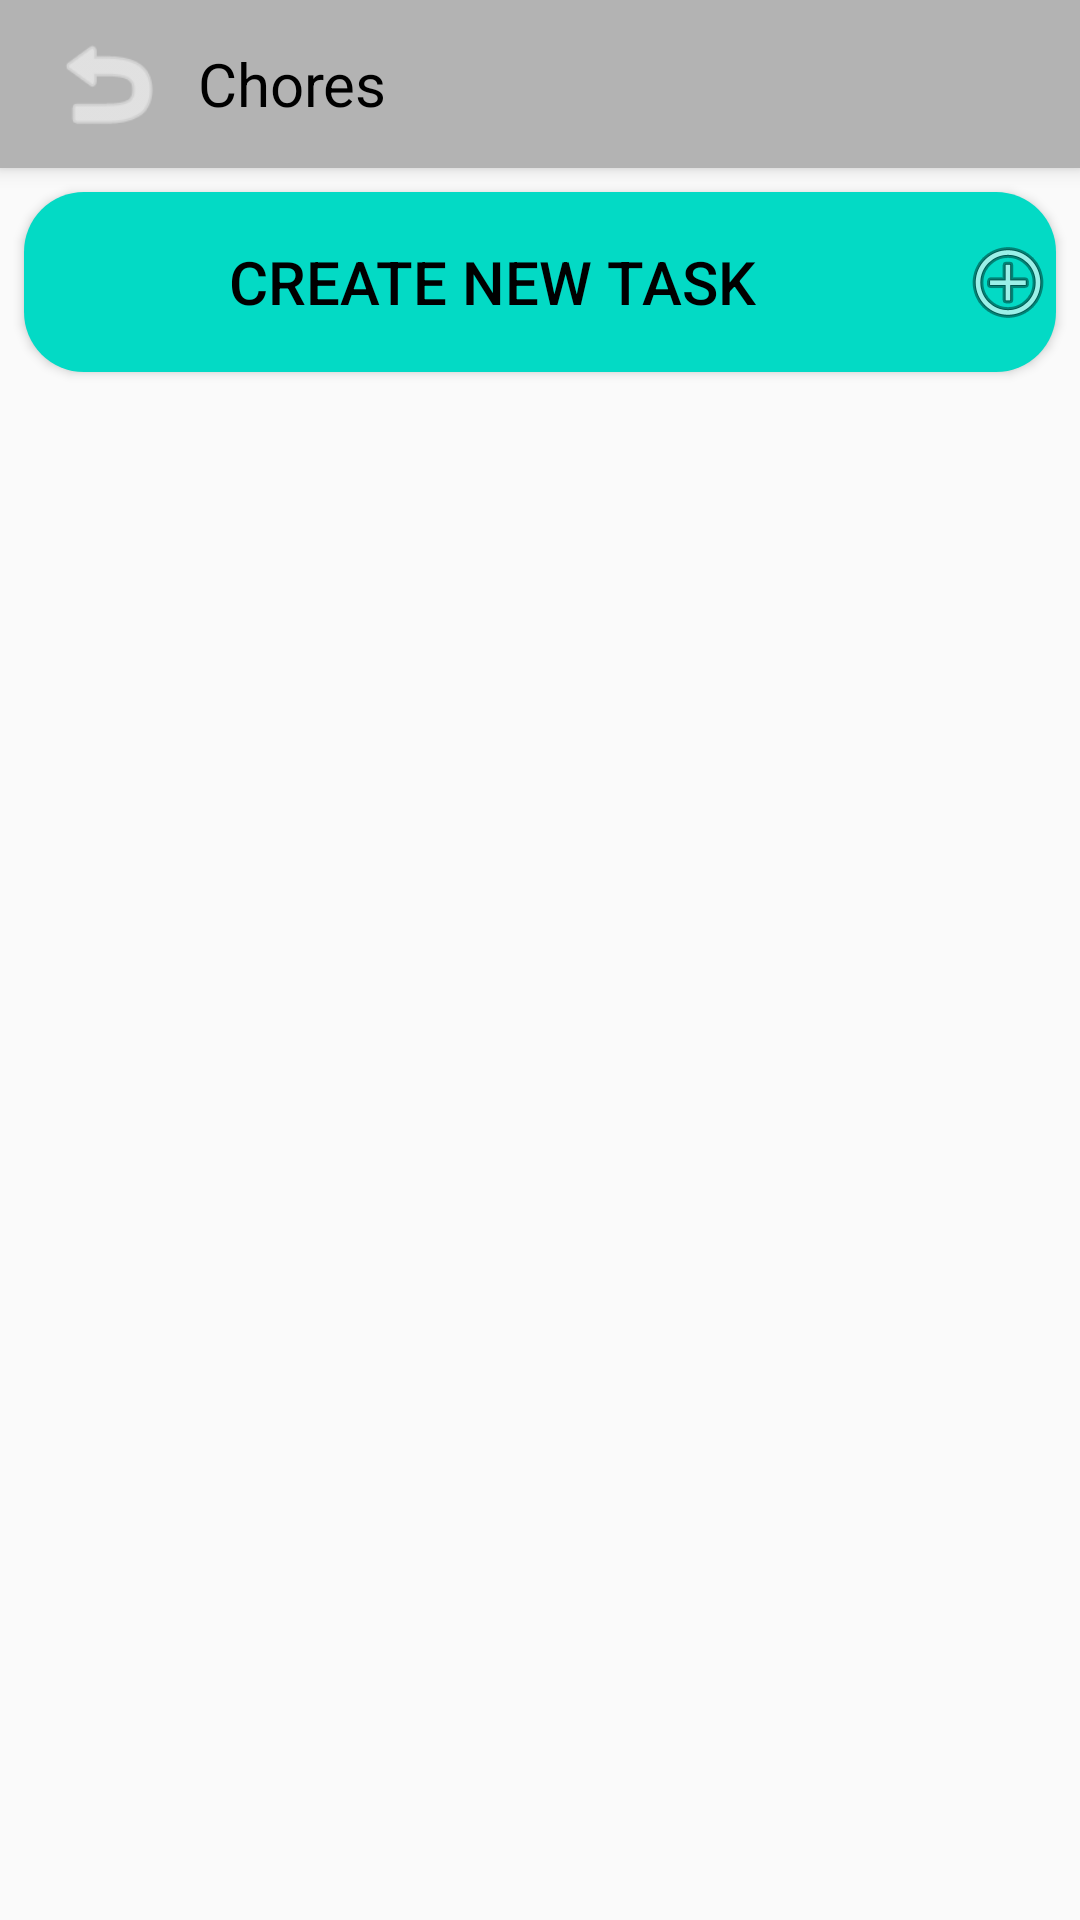

Where to tap for icons on this 1080*1920 app screen, as [x,y]:
revert: [109,85]
